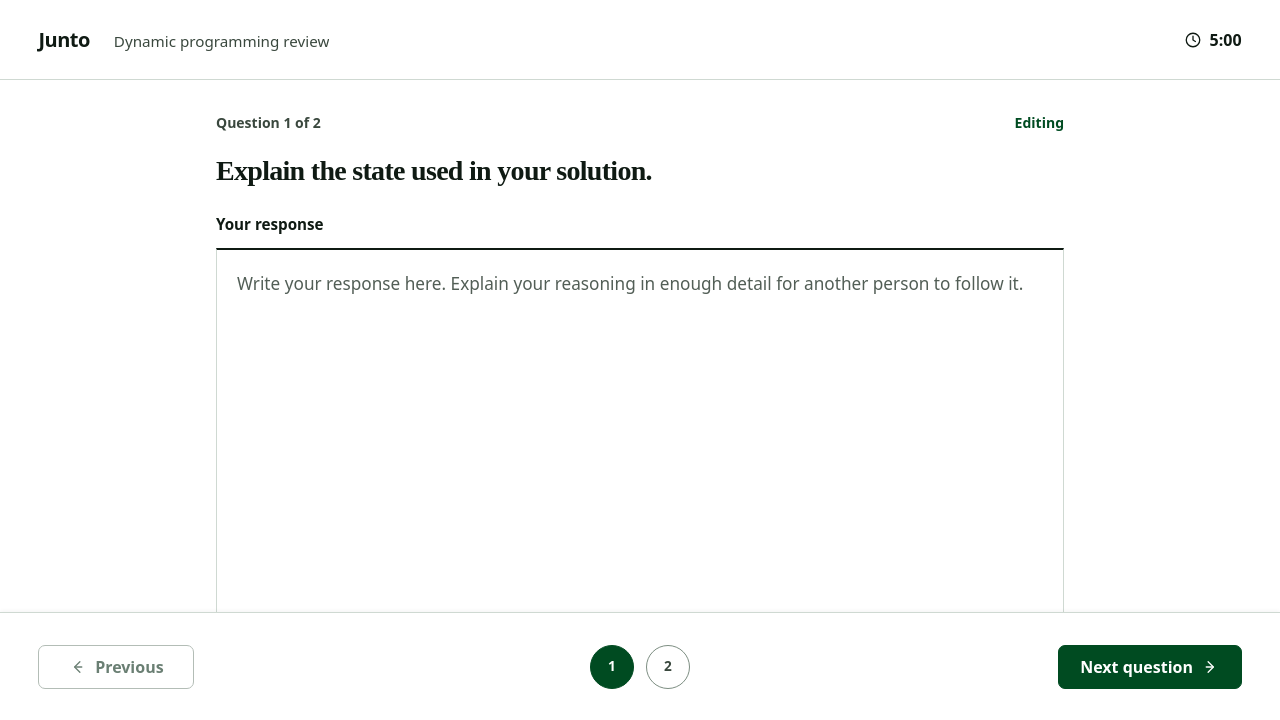
Test: ParticipantRoomPage answer runner › saves the current response before moving and updates numbered progress
This screenshot has width=1280, height=720.
Expected: the heading "Explain the state used in your solution." is shown, [216,155,652,186]
Type "Let state i store the best result for the first i items." into the text box labelled "Your response" at (640, 439), box [216,248,1064,631]
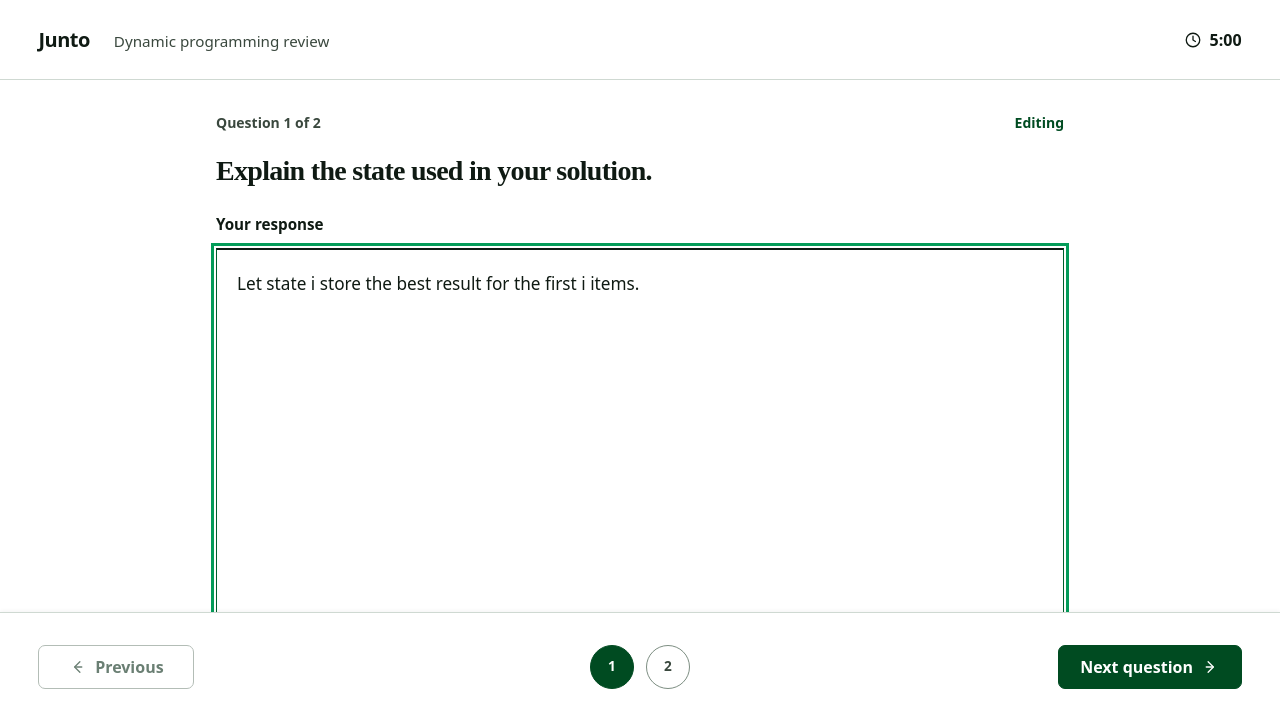
Click the button "Next question" at (1150, 666), box [1058,644,1242,688]
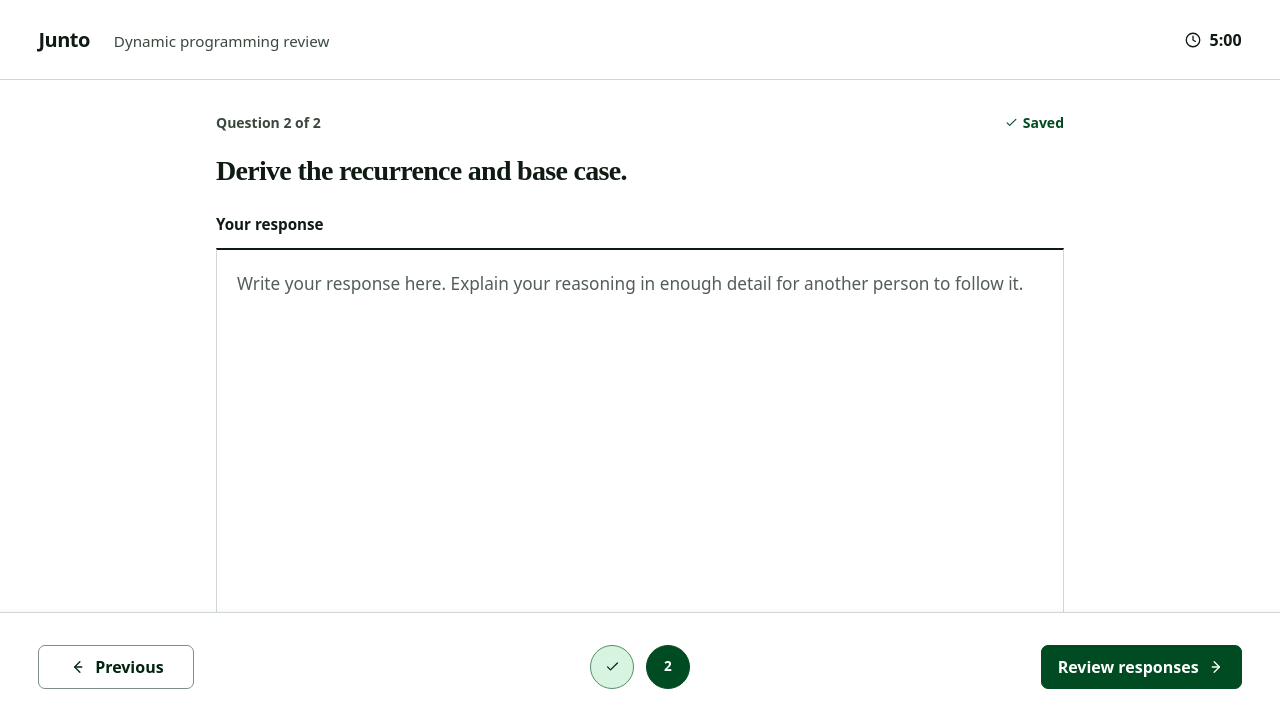
Expected: the text "Saved automatically and before you move between questions." is shown, [216,645,588,664]
Expected: the heading "Derive the recurrence and base case." is shown, [216,155,627,186]
Expected: the 4th icon is shown, [604,658,620,675]
